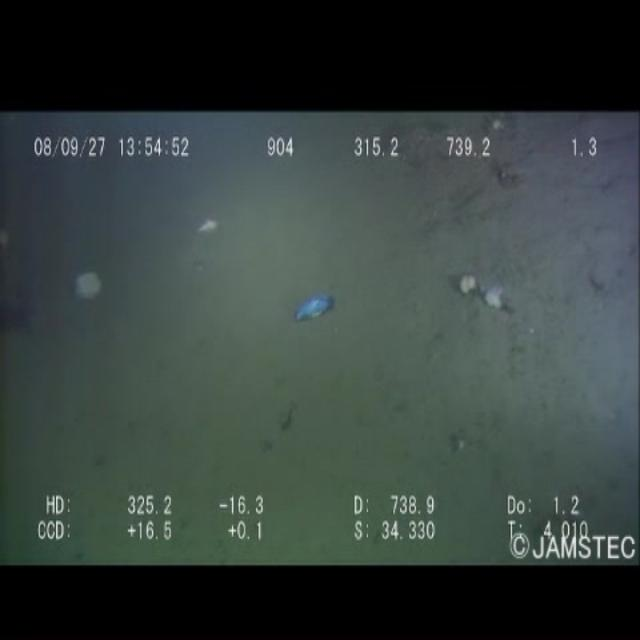Litter: (293, 279, 346, 337)
